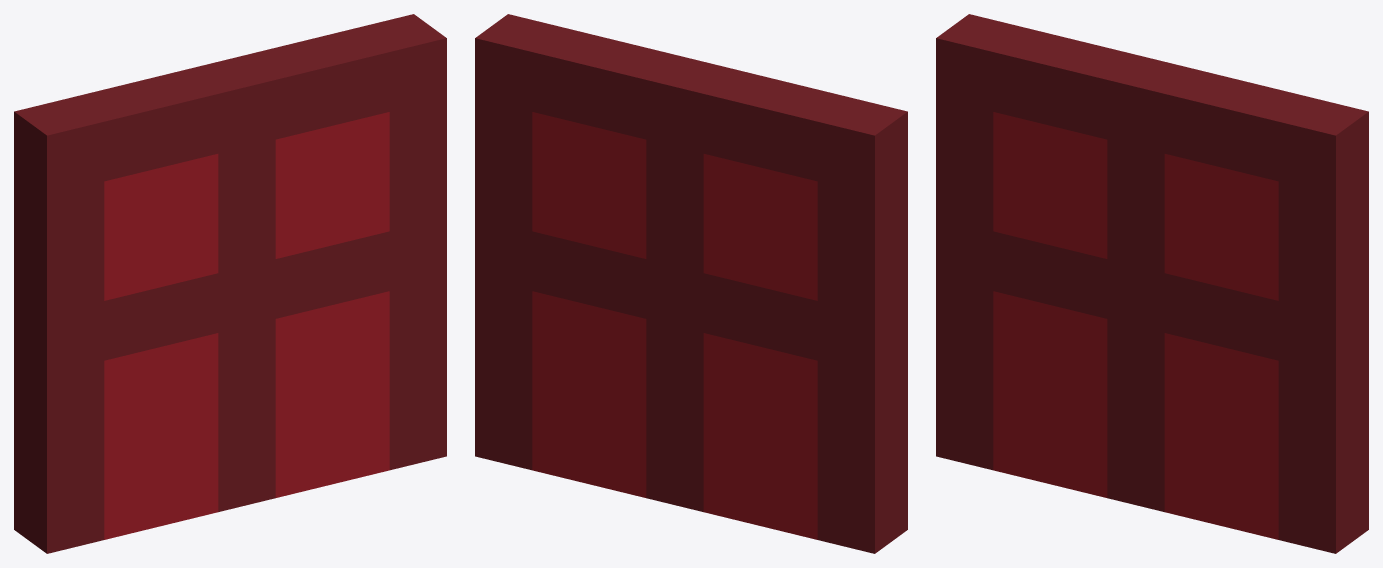
Rendered from House-0-HouseDoor.obj.
3 renders of one model, left to right at view 1: azimuth 30°, elevation 25°; view 2: azimuth 150°, elevation 25°; view 3: azimuth 330°, elevation 25°, orthographic.
Parts seen in each view (by area): view 1: HouseDoor; view 2: HouseDoor; view 3: HouseDoor.
Part boxes in pixels (x1=…): HouseDoor: x1=14, y1=14, x2=446, y2=553; HouseDoor: x1=475, y1=14, x2=907, y2=553; HouseDoor: x1=936, y1=14, x2=1368, y2=553.
Bounding box in the file's own units: 0.7 × 0.7 × 0.1.
Materials: 1 (1 with a texture image).
